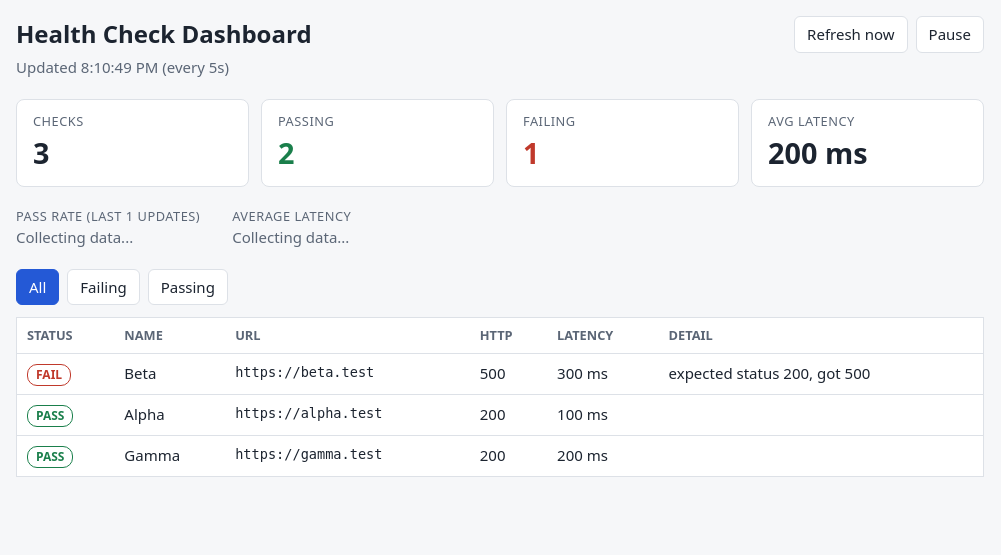
Test: App › keeps showing old data when a refresh fails
Expected: the text "Alpha" is shown, [114,395,225,436]
Click the button "Refresh now" at (851, 34), box [794,16,908,52]
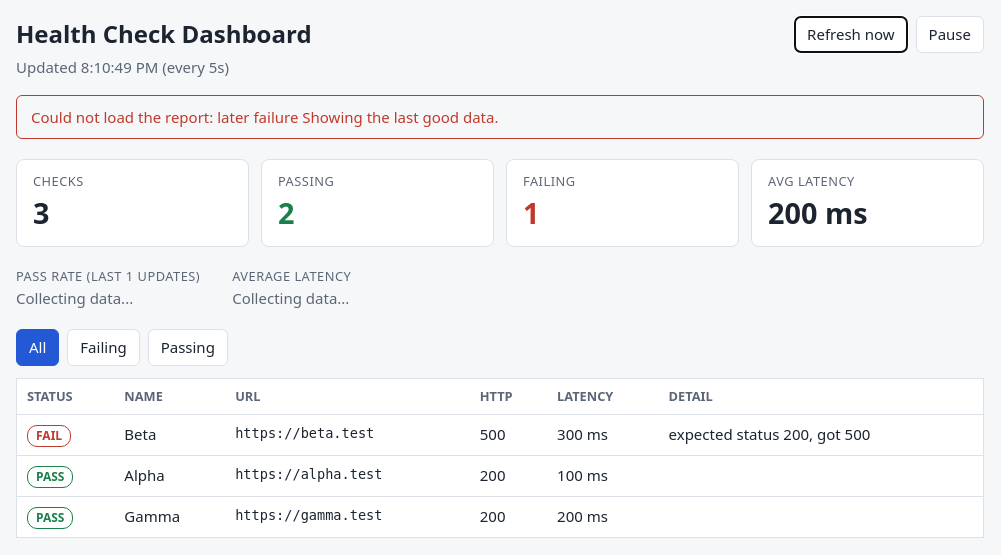
Expected: the text "Alpha" is shown, [114,455,225,496]
Now the message shows "Showing the last good data.", box [298,106,498,126]
